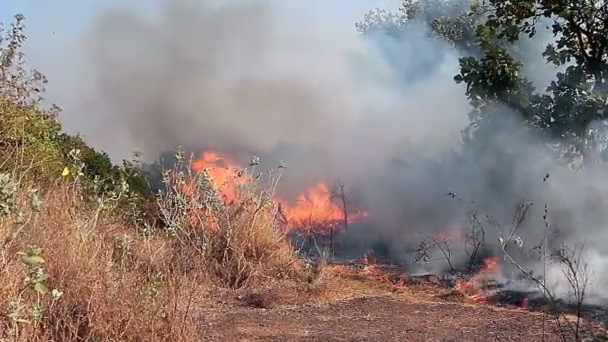fire: (190, 155, 255, 195), (289, 186, 346, 221), (62, 167, 68, 175)
